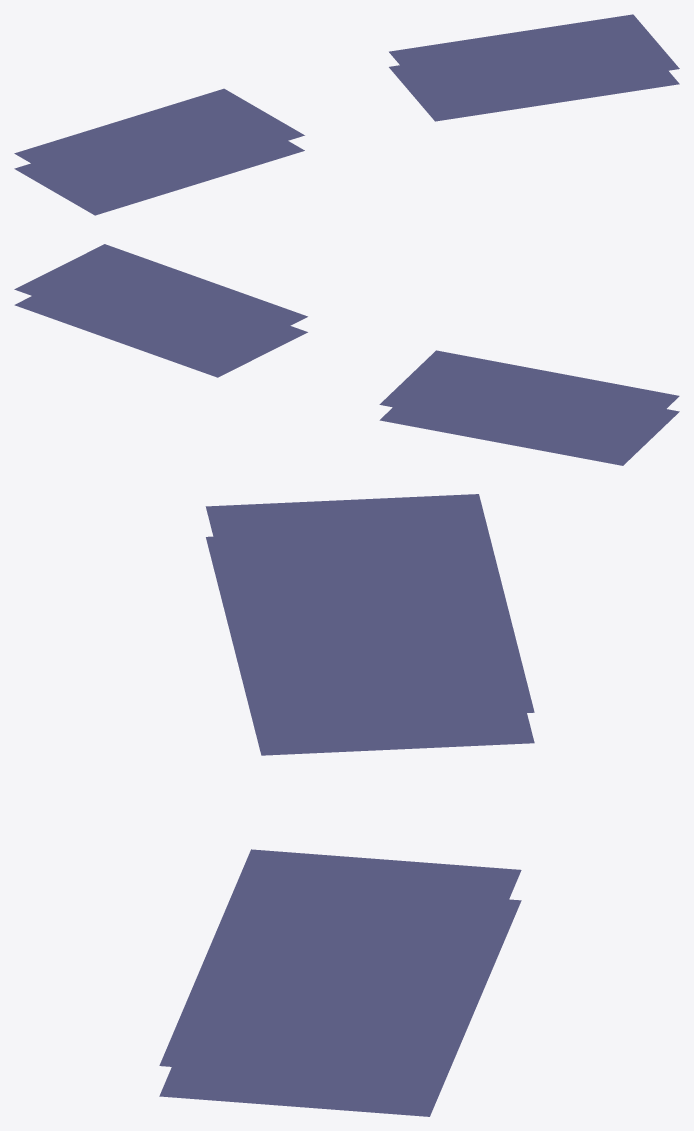
The model's file is NS_Monster_DiablotinAile_low.fbx.
3 views of the same model, one above another, from view 1: azimuth 30°, elevation 25°; view 2: azimuth 150°, elevation 25°; view 3: azimuth 270°, elevation 25° (orthographic). The views are drawn at different scales.
Visible parts, largest first — view 1: NS_DiablotinAiles01_low, NS_DiablotinAiles02_low; view 2: NS_DiablotinAiles01_low, NS_DiablotinAiles02_low; view 3: NS_DiablotinAiles01_low, NS_DiablotinAiles02_low.
Part boxes in pixels (left/top/right/bottom): NS_DiablotinAiles01_low: left=14, top=14, right=679, bottom=200; NS_DiablotinAiles02_low: left=14, top=65, right=679, bottom=215; NS_DiablotinAiles01_low: left=14, top=244, right=679, bottom=450; NS_DiablotinAiles02_low: left=14, top=296, right=679, bottom=465; NS_DiablotinAiles01_low: left=159, top=494, right=534, bottom=1086; NS_DiablotinAiles02_low: left=159, top=536, right=534, bottom=1116.
Size of the model in its own units: 2.49 by 0.0597 by 0.6667.
